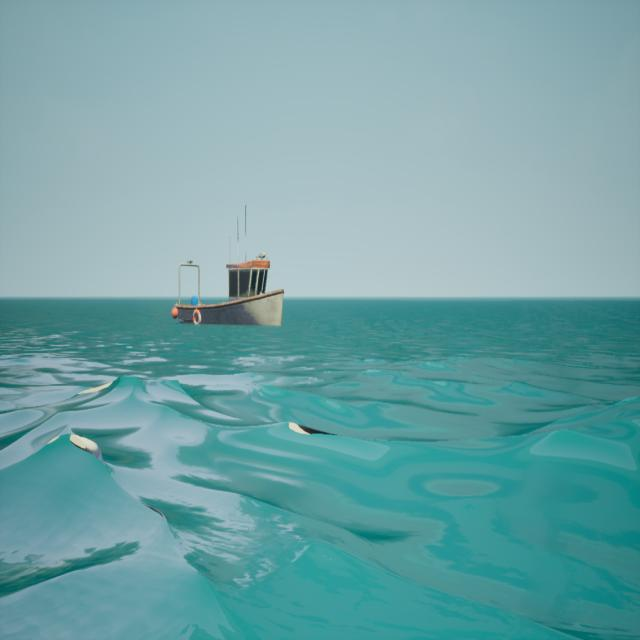ship: (167, 198, 290, 342)
